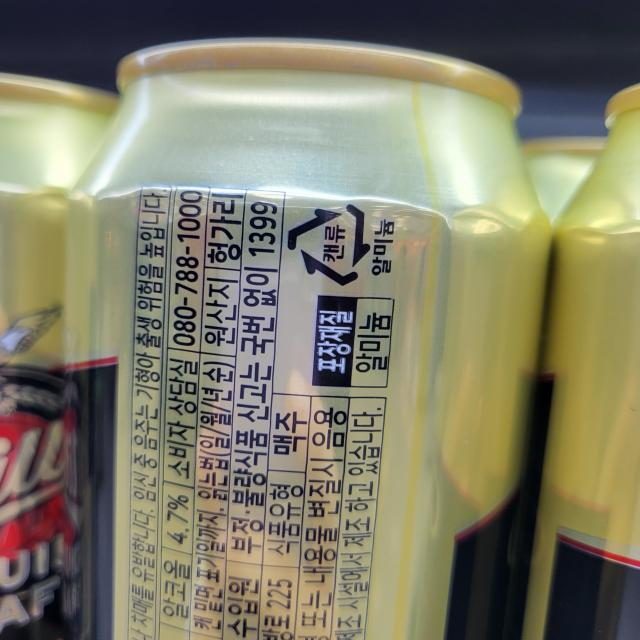Can: (285, 196, 371, 284)
